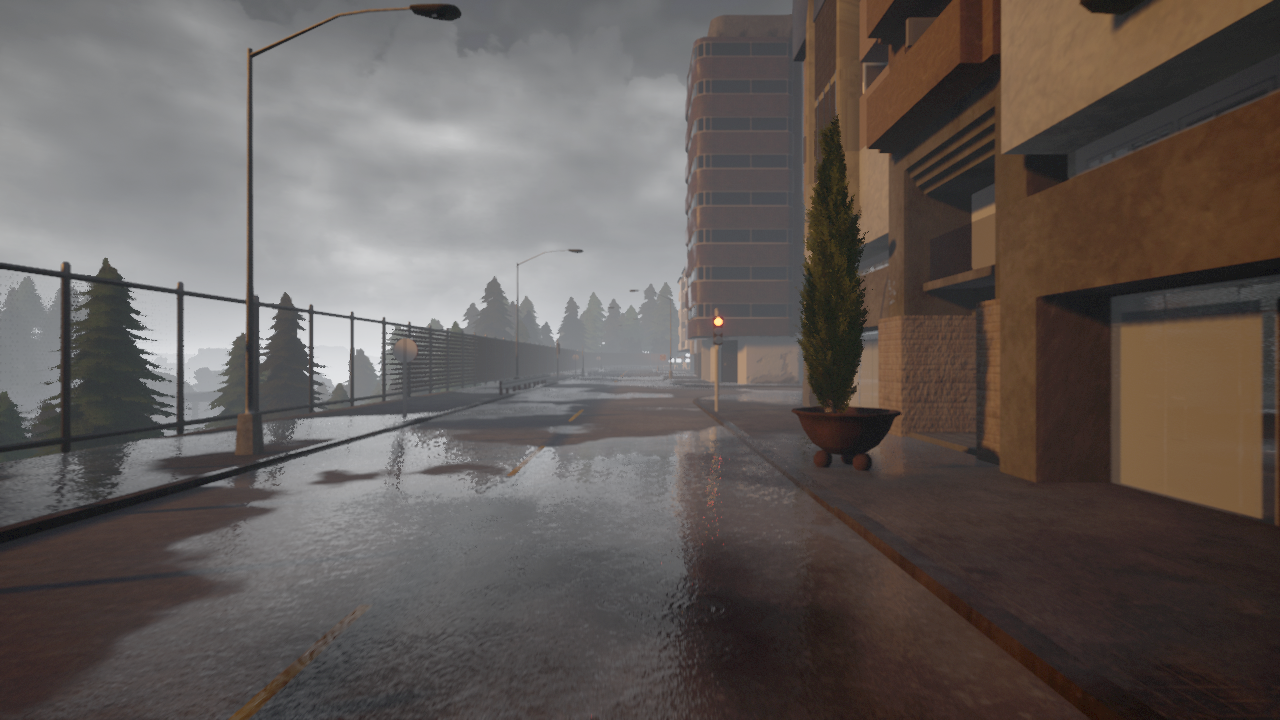red: (711, 315, 724, 345)
